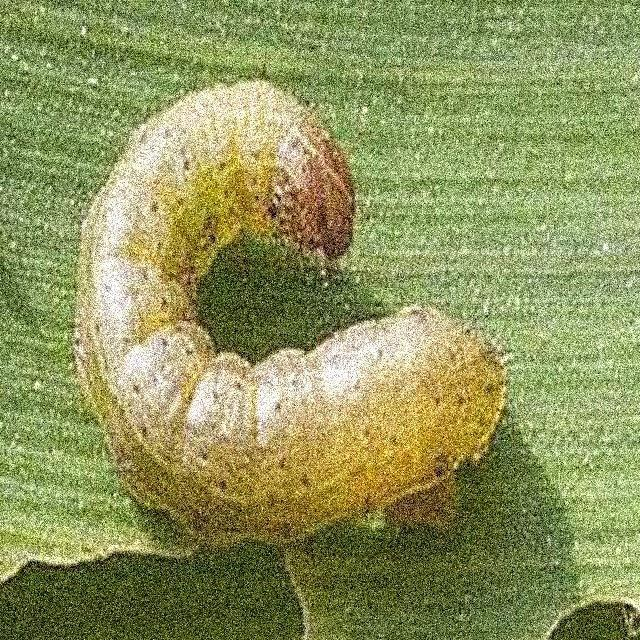gusano_cogollero: (70, 76, 503, 552)
